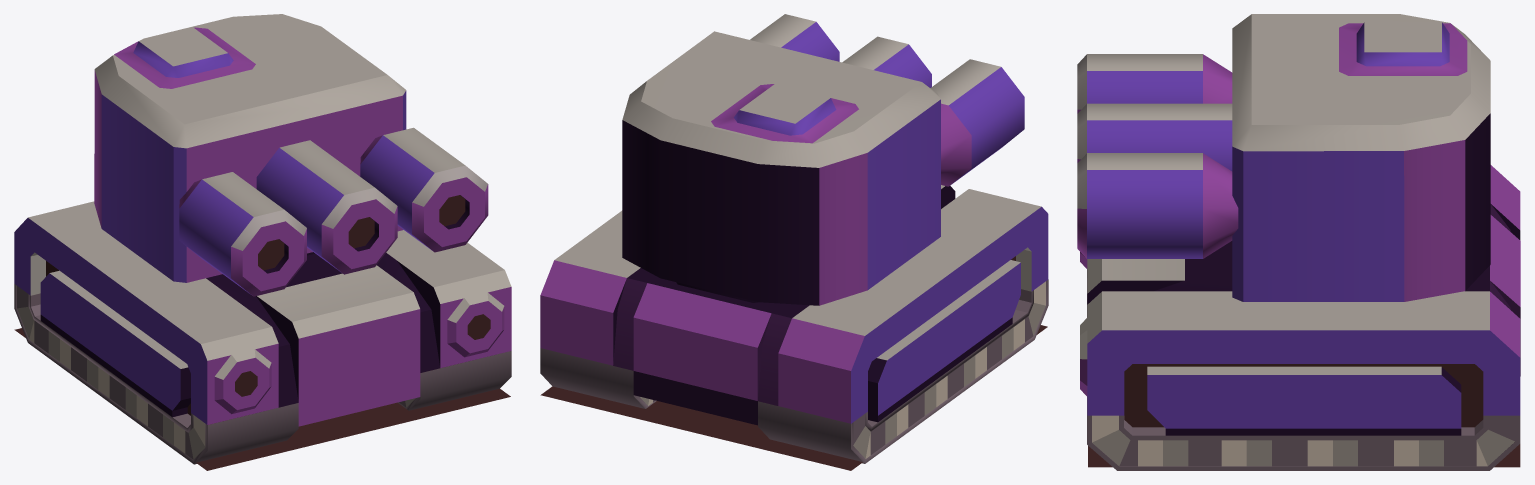
Rendered from MegaTankMesh.BlackHole.glb.
The picture shows the model from 3 angles, left to right: view 1: azimuth 30°, elevation 25°; view 2: azimuth 150°, elevation 25°; view 3: azimuth 270°, elevation 25°; orthographic projection. The views are drawn at different scales.
Parts seen in each view (by area): view 1: MegaTankMesh.BlackHole; view 2: MegaTankMesh.BlackHole; view 3: MegaTankMesh.BlackHole.
Boxes of the visible parts, <box> form: MegaTankMesh.BlackHole: <box>14,14,511,470</box>; MegaTankMesh.BlackHole: <box>540,14,1048,470</box>; MegaTankMesh.BlackHole: <box>1077,14,1520,470</box>.
Size of the model in its own units: 2 by 1.86 by 2.25.
Materials: 1 (1 with a texture image).
